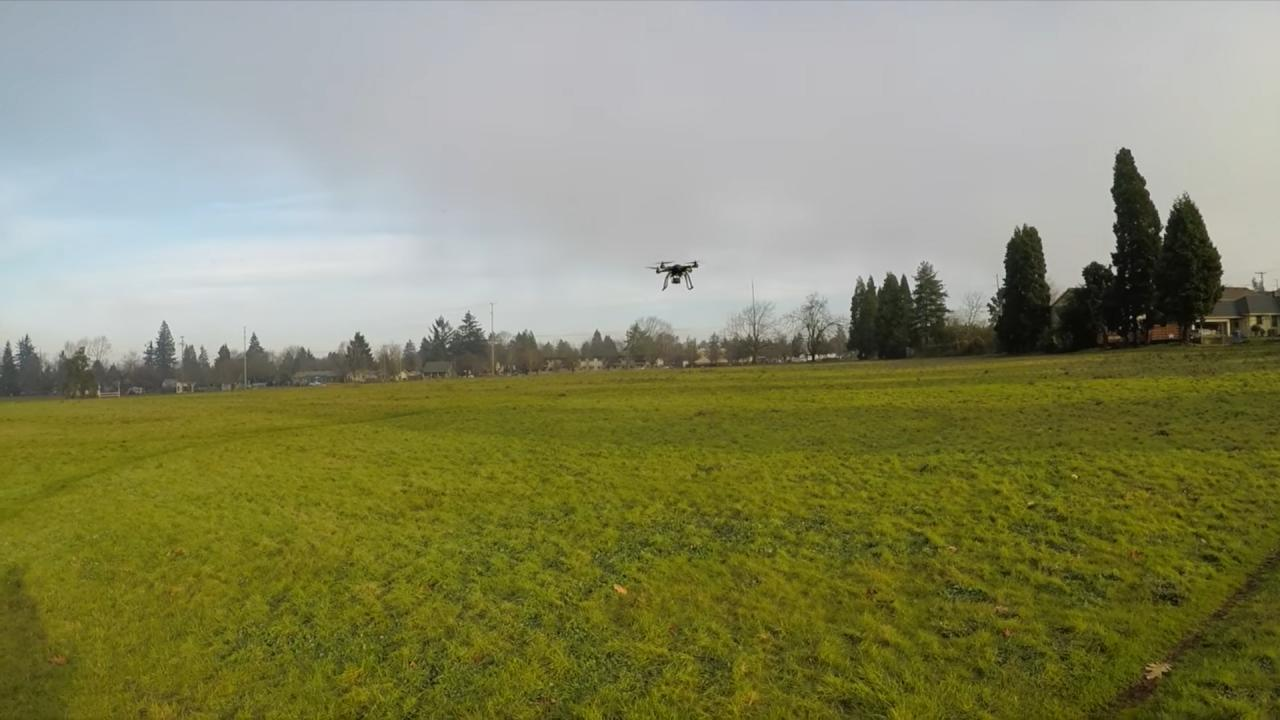Drone: (637, 254, 708, 297)
